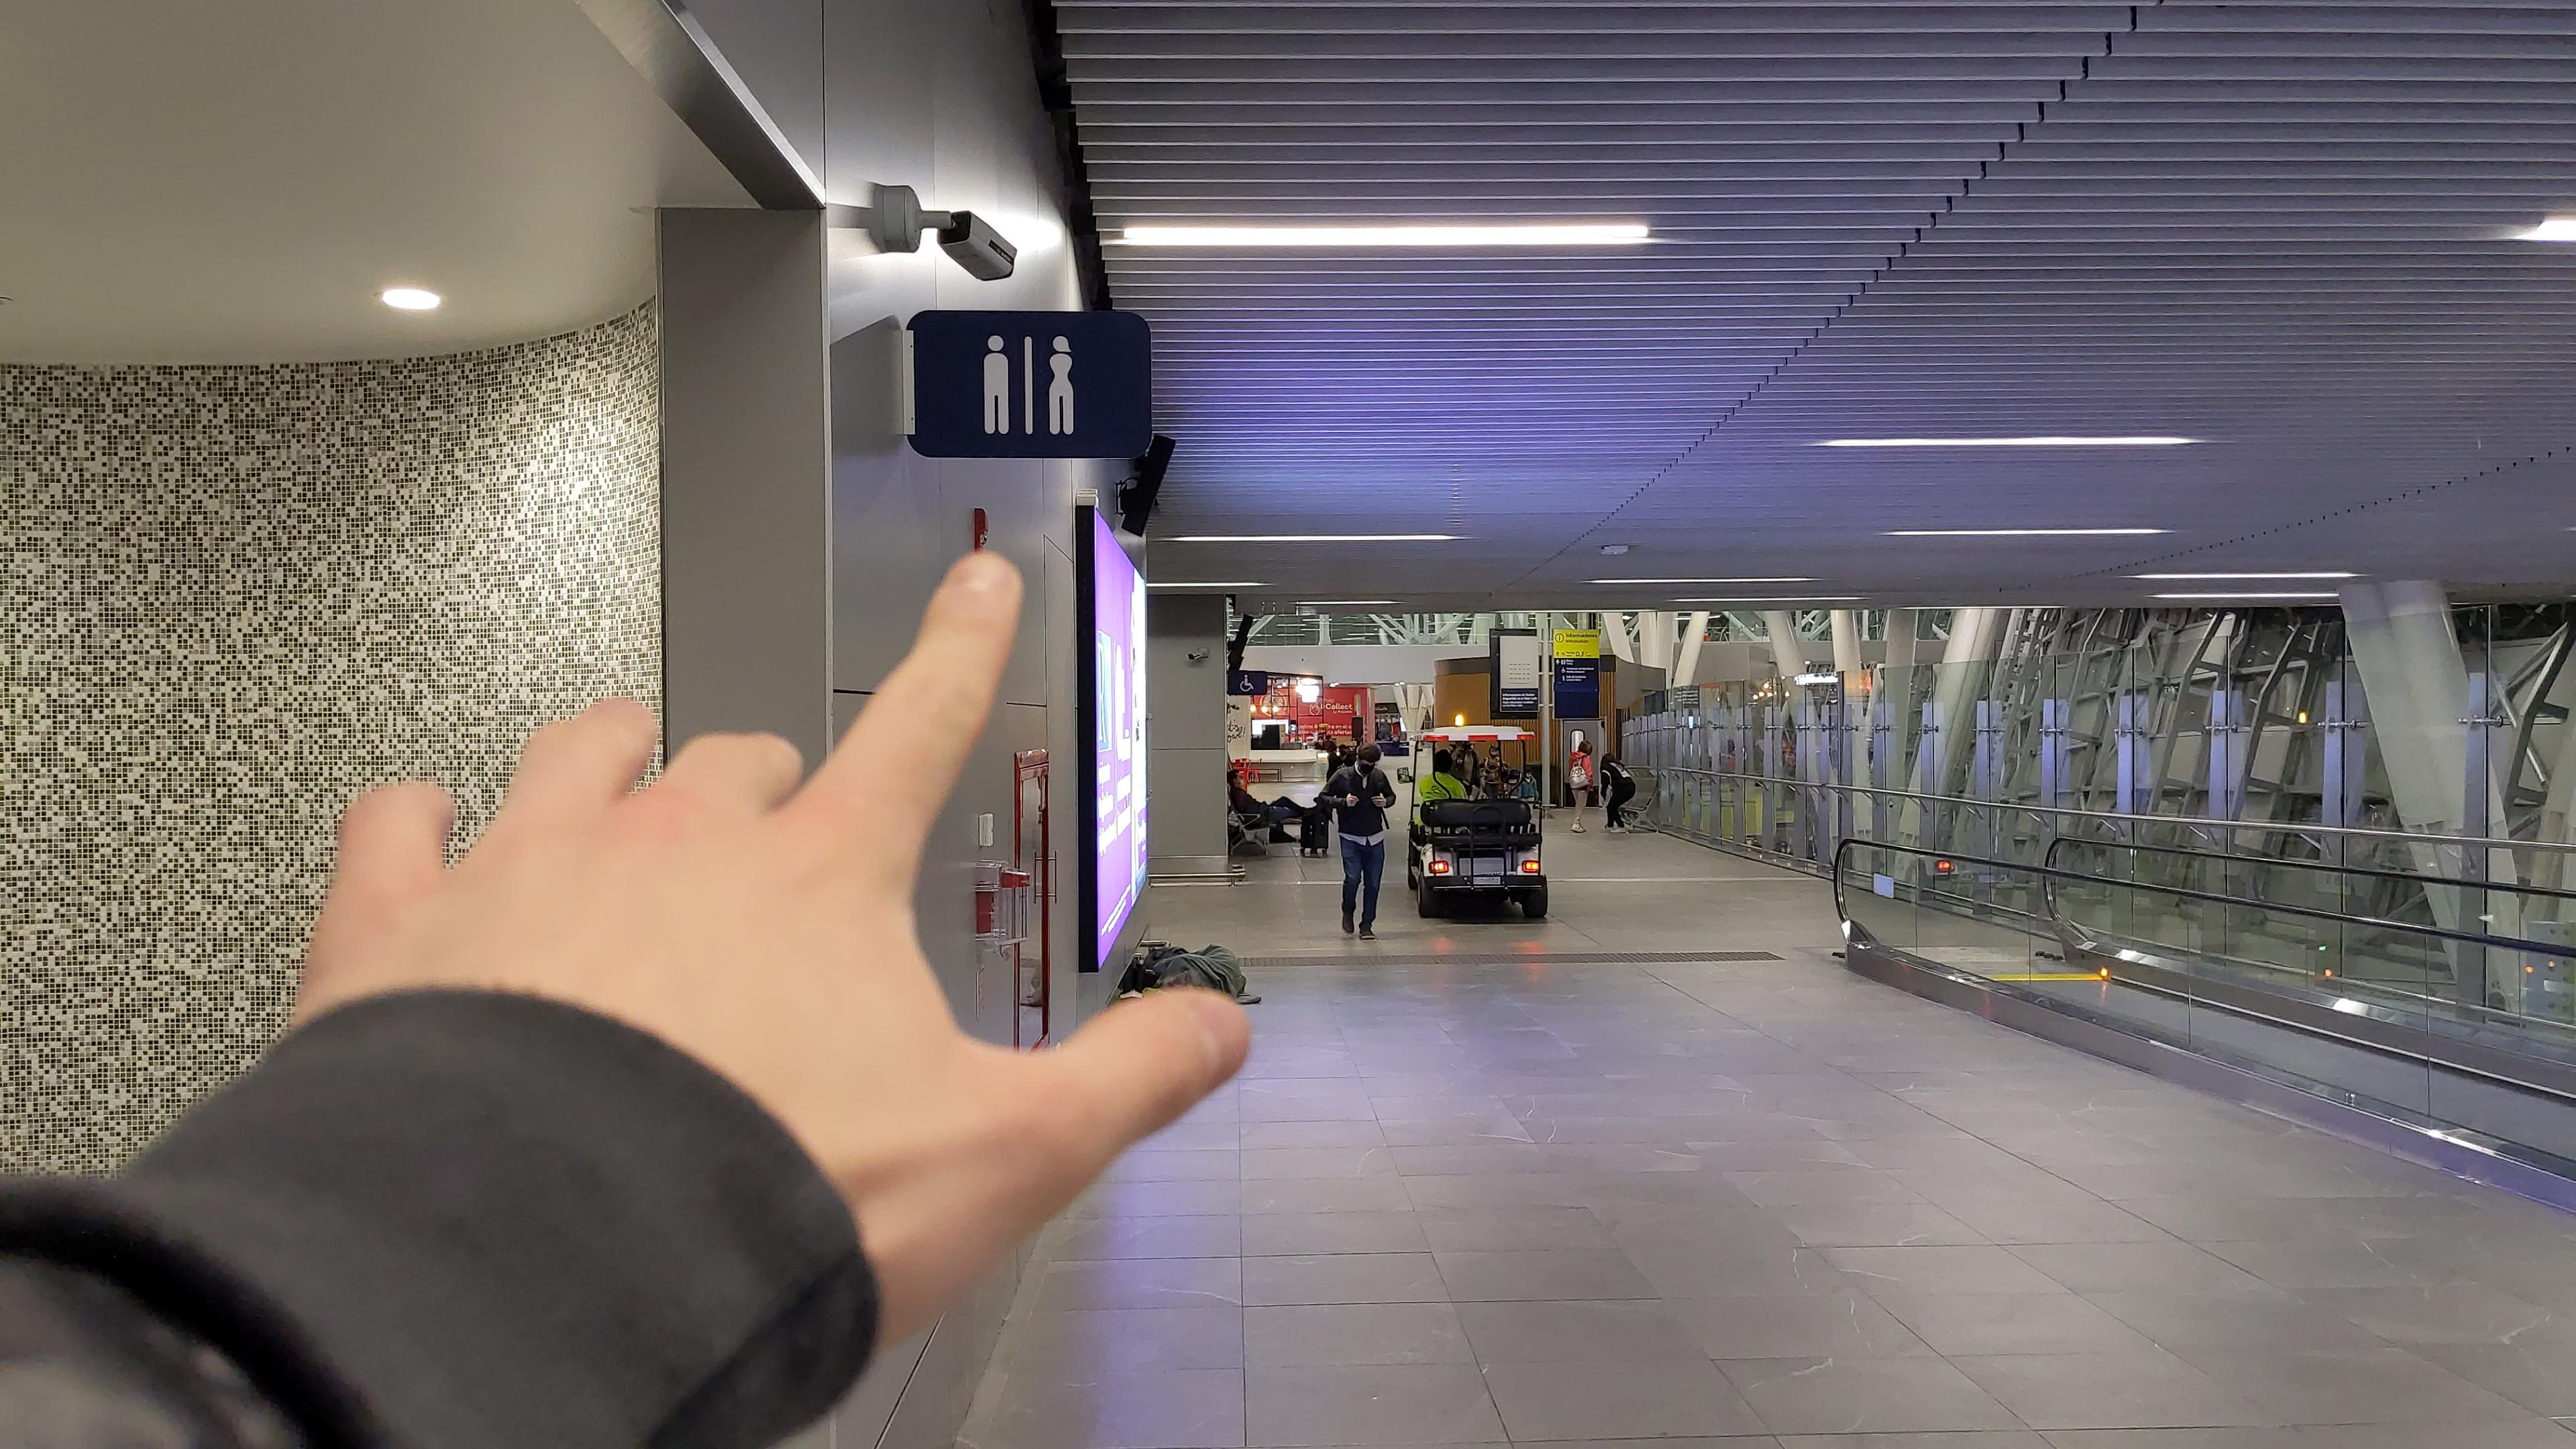bathrooms: (978, 329, 1083, 442)
handicapped symbol: (1238, 674, 1254, 692)
